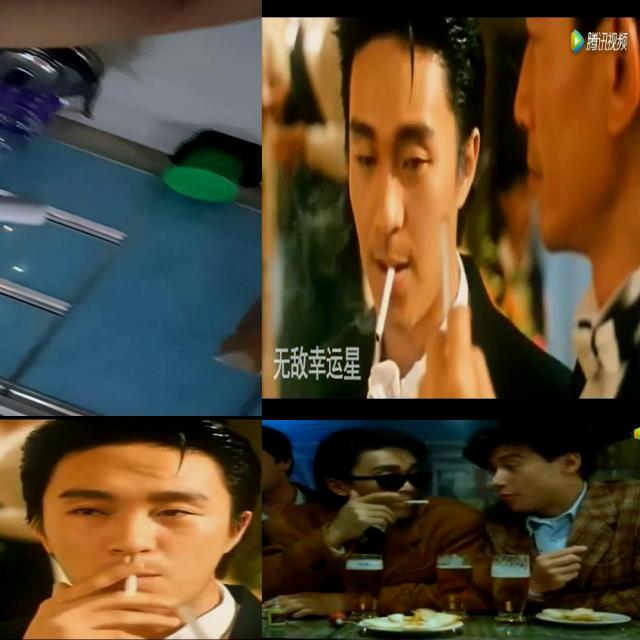cigarette: (371, 248, 397, 344), (114, 566, 150, 604), (404, 500, 432, 504)
